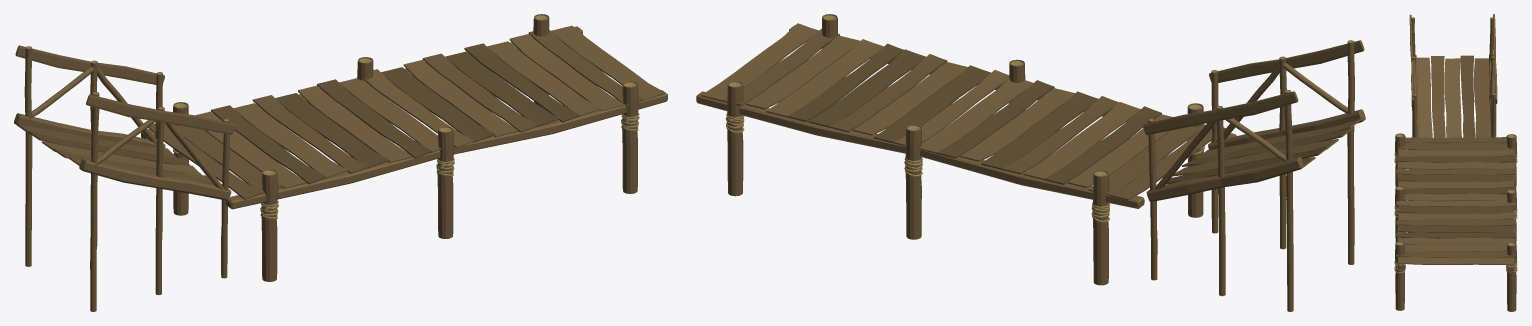
The model's file is Pier.fbx.
3 renders of one model, left to right at view 1: azimuth 30°, elevation 25°; view 2: azimuth 150°, elevation 25°; view 3: azimuth 270°, elevation 25°, orthographic. The views are drawn at different scales.
Visible parts, largest first — view 1: MainPier, SmallPier; view 2: MainPier, SmallPier; view 3: MainPier, SmallPier.
Boxes of the visible parts, bbox=[...] form: MainPier: bbox=[141, 14, 667, 281]; SmallPier: bbox=[14, 45, 235, 311]; MainPier: bbox=[696, 14, 1236, 285]; SmallPier: bbox=[1142, 40, 1365, 311]; MainPier: bbox=[1394, 133, 1517, 311]; SmallPier: bbox=[1409, 14, 1497, 137].
Size of the model in its own units: 37.15 by 13.44 by 11.08.
